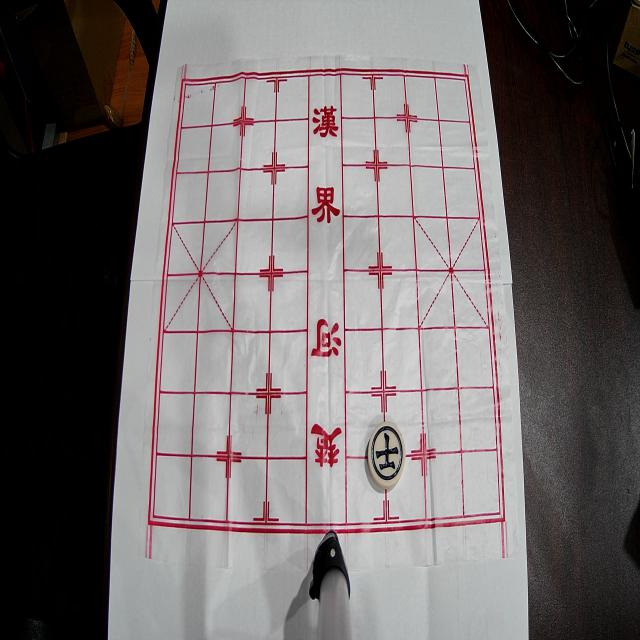black-guard: (368, 421, 406, 489)
